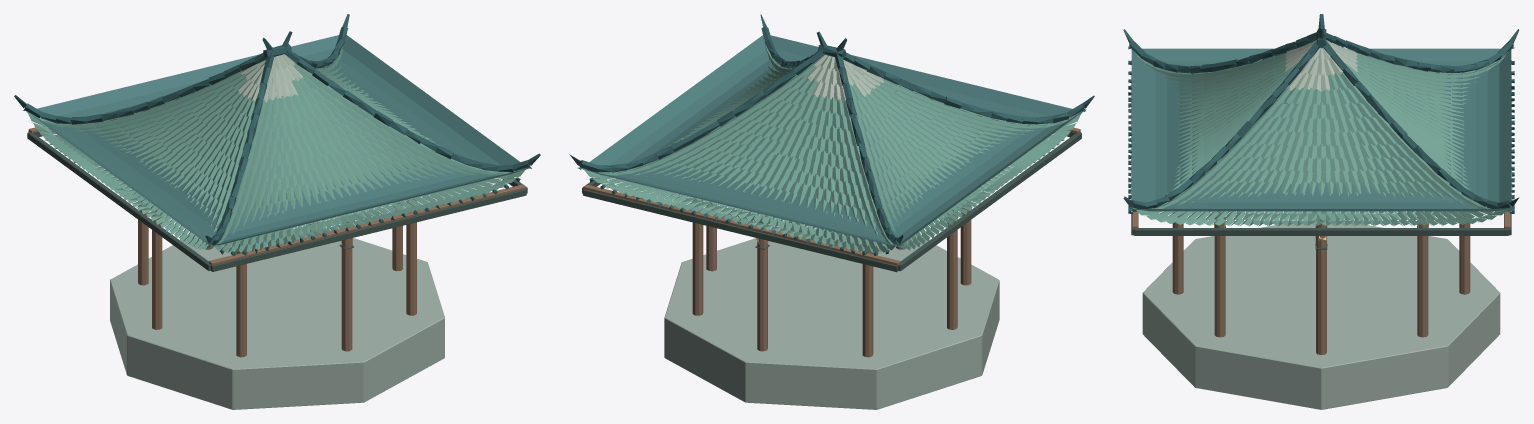
The model's file is dicuiting.glb.
3 views of the same model, side by side, from view 1: azimuth 30°, elevation 25°; view 2: azimuth 150°, elevation 25°; view 3: azimuth 270°, elevation 25° (orthographic). The views are drawn at different scales.
Parts seen in each view (by area): view 1: r15_dicuiting_Sunwen_r18_pavilion_stone.001, r15_dicuiting_Sunwen_r18_pavilion_tile.001, r15_dicuiting_Sunwen_r18_pavilion_roof.001, r15_dicuiting_Sunwen_r18_pavilion_wood.001, r15_dicuiting_Sunwen_r18_pavilion_tiledark.001, r15_dicuiting_Sunwen_r18_pavilion_darkwood.001, r15_dicuiting_Sunwen_r18_pavilion_tilelight.001; view 2: r15_dicuiting_Sunwen_r18_pavilion_stone.001, r15_dicuiting_Sunwen_r18_pavilion_tile.001, r15_dicuiting_Sunwen_r18_pavilion_roof.001, r15_dicuiting_Sunwen_r18_pavilion_wood.001, r15_dicuiting_Sunwen_r18_pavilion_tiledark.001, r15_dicuiting_Sunwen_r18_pavilion_darkwood.001, r15_dicuiting_Sunwen_r18_pavilion_tilelight.001; view 3: r15_dicuiting_Sunwen_r18_pavilion_stone.001, r15_dicuiting_Sunwen_r18_pavilion_tile.001, r15_dicuiting_Sunwen_r18_pavilion_roof.001, r15_dicuiting_Sunwen_r18_pavilion_tiledark.001, r15_dicuiting_Sunwen_r18_pavilion_wood.001, r15_dicuiting_Sunwen_r18_pavilion_darkwood.001, r15_dicuiting_Sunwen_r18_pavilion_tilelight.001.
Boxes of the visible parts, x1,y1,x2,y2 form: r15_dicuiting_Sunwen_r18_pavilion_stone.001: (110,228,444,409); r15_dicuiting_Sunwen_r18_pavilion_tile.001: (26,46,527,253); r15_dicuiting_Sunwen_r18_pavilion_roof.001: (26,35,527,246); r15_dicuiting_Sunwen_r18_pavilion_wood.001: (28,127,526,357); r15_dicuiting_Sunwen_r18_pavilion_tiledark.001: (14,14,540,255); r15_dicuiting_Sunwen_r18_pavilion_darkwood.001: (27,131,527,271); r15_dicuiting_Sunwen_r18_pavilion_tilelight.001: (226,54,330,103); r15_dicuiting_Sunwen_r18_pavilion_stone.001: (664,228,999,409); r15_dicuiting_Sunwen_r18_pavilion_tile.001: (582,41,1082,253); r15_dicuiting_Sunwen_r18_pavilion_roof.001: (582,35,1082,246); r15_dicuiting_Sunwen_r18_pavilion_wood.001: (583,127,1080,357); r15_dicuiting_Sunwen_r18_pavilion_tiledark.001: (569,14,1094,255); r15_dicuiting_Sunwen_r18_pavilion_darkwood.001: (582,132,1081,272); r15_dicuiting_Sunwen_r18_pavilion_tilelight.001: (795,54,884,102); r15_dicuiting_Sunwen_r18_pavilion_stone.001: (1142,219,1500,409); r15_dicuiting_Sunwen_r18_pavilion_tile.001: (1130,46,1512,226); r15_dicuiting_Sunwen_r18_pavilion_roof.001: (1131,48,1511,211); r15_dicuiting_Sunwen_r18_pavilion_tiledark.001: (1123,14,1519,213); r15_dicuiting_Sunwen_r18_pavilion_wood.001: (1132,211,1510,354); r15_dicuiting_Sunwen_r18_pavilion_darkwood.001: (1131,75,1511,249); r15_dicuiting_Sunwen_r18_pavilion_tilelight.001: (1285,40,1357,91).
Bounding box in the file's own units: 11.15 × 9.68 × 11.07.
